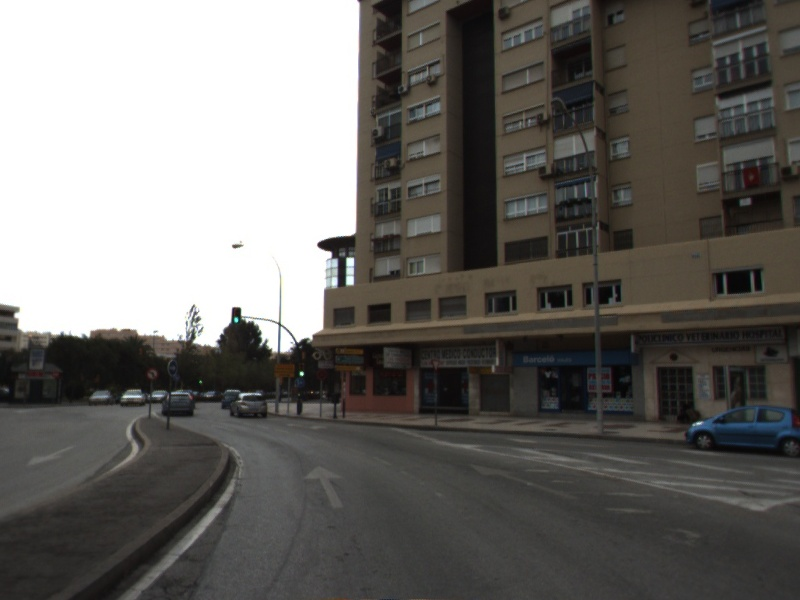STRAIGHT: (467, 461, 580, 502), (301, 463, 346, 510)
